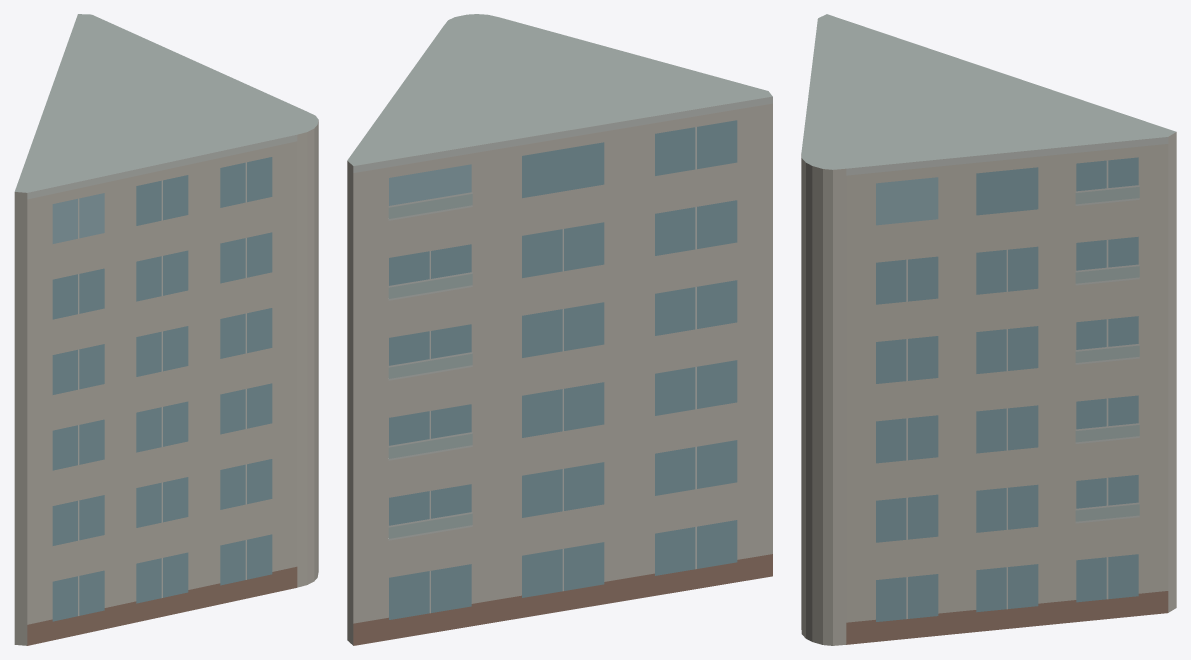
Rendered from survey-upis-32476632.glb.
3 renders of one model, left to right at view 1: azimuth 30°, elevation 25°; view 2: azimuth 150°, elevation 25°; view 3: azimuth 270°, elevation 25°, orthographic. The views are drawn at different scales.
Parts seen in each view (by area): view 1: survey-upis-32476632.tmp; view 2: survey-upis-32476632.tmp; view 3: survey-upis-32476632.tmp.
Part boxes in pixels (<box>): survey-upis-32476632.tmp: <box>14,14,318,645</box>; survey-upis-32476632.tmp: <box>347,14,772,645</box>; survey-upis-32476632.tmp: <box>801,14,1176,645</box>.
Size of the model in its own units: 11.73 by 16.7 by 11.94.
